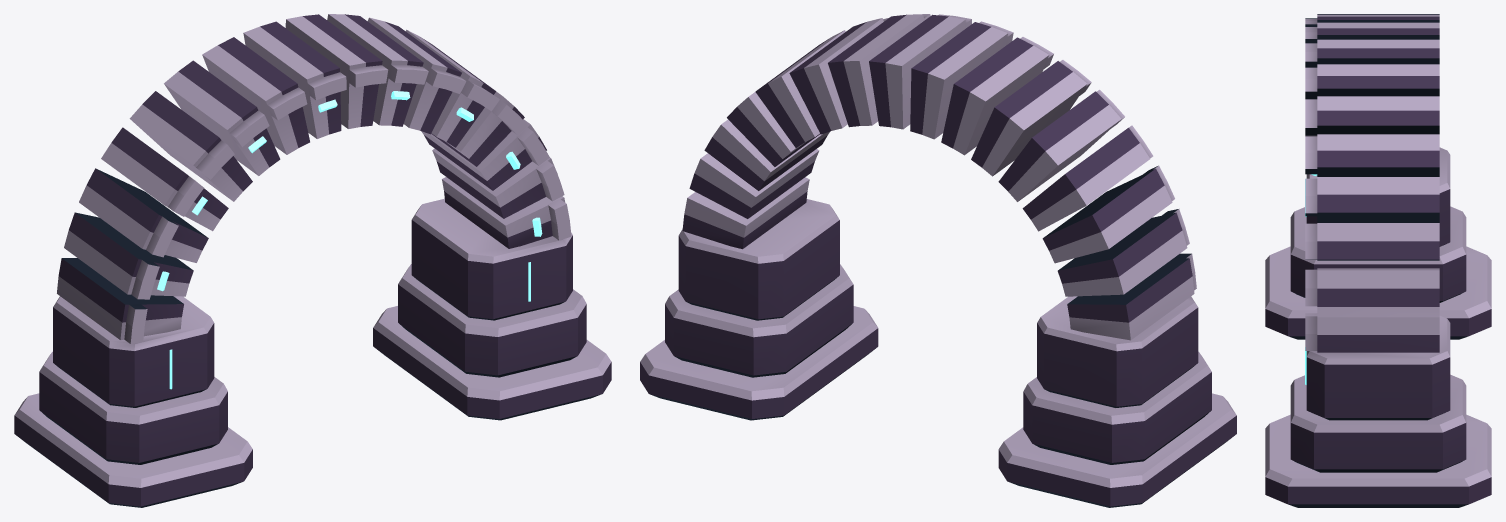
File: sanctuary-gate.glb
The picture shows the model from 3 angles, left to right: view 1: azimuth 30°, elevation 25°; view 2: azimuth 150°, elevation 25°; view 3: azimuth 270°, elevation 25°; orthographic projection. The views are drawn at different scales.
Visible parts, largest first — view 1: sanctuary-gate; view 2: sanctuary-gate; view 3: sanctuary-gate.
Part boxes in pixels (bbox=[...]): sanctuary-gate: bbox=[14, 14, 611, 507]; sanctuary-gate: bbox=[640, 14, 1236, 507]; sanctuary-gate: bbox=[1265, 14, 1491, 507].
Size of the model in its own units: 11.58 by 8.15 by 4.7.
